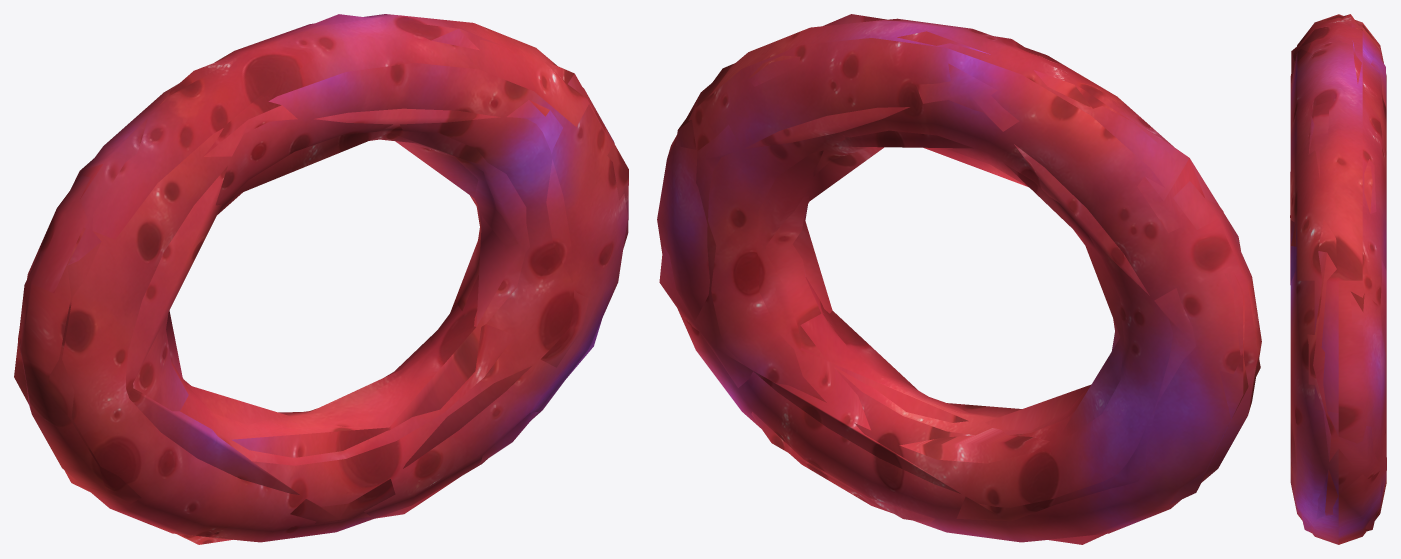
File: mouth_basic.fbx
3 views of the same model, side by side, from view 1: azimuth 30°, elevation 25°; view 2: azimuth 150°, elevation 25°; view 3: azimuth 270°, elevation 25° (orthographic). The views are drawn at different scales.
Parts seen in each view (by area): view 1: mouth_basic_VIS, mouth_basic_COL; view 2: mouth_basic_VIS, mouth_basic_COL; view 3: mouth_basic_VIS, mouth_basic_COL.
Boxes of the visible parts, x1=… form: mouth_basic_VIS: x1=18, y1=14, x2=627, y2=542; mouth_basic_COL: x1=14, y1=14, x2=628, y2=544; mouth_basic_VIS: x1=657, y1=18, x2=1261, y2=542; mouth_basic_COL: x1=659, y1=14, x2=1260, y2=544; mouth_basic_VIS: x1=1290, y1=14, x2=1386, y2=544; mouth_basic_COL: x1=1290, y1=14, x2=1386, y2=532.
Bounding box in the file's own units: 60 × 48 × 9.17.
